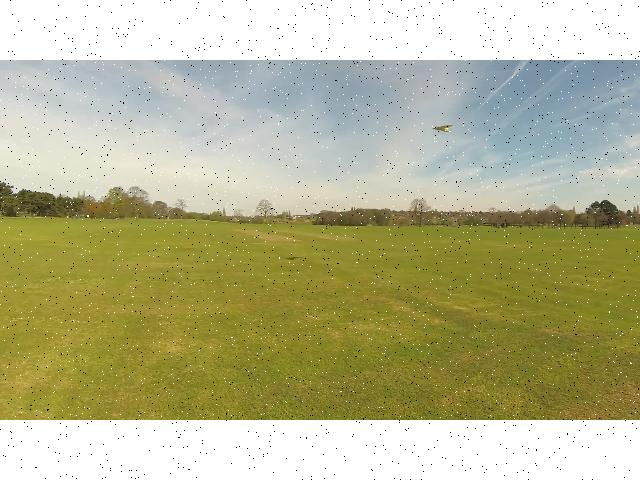Anti-Drone: (424, 118, 460, 142)
